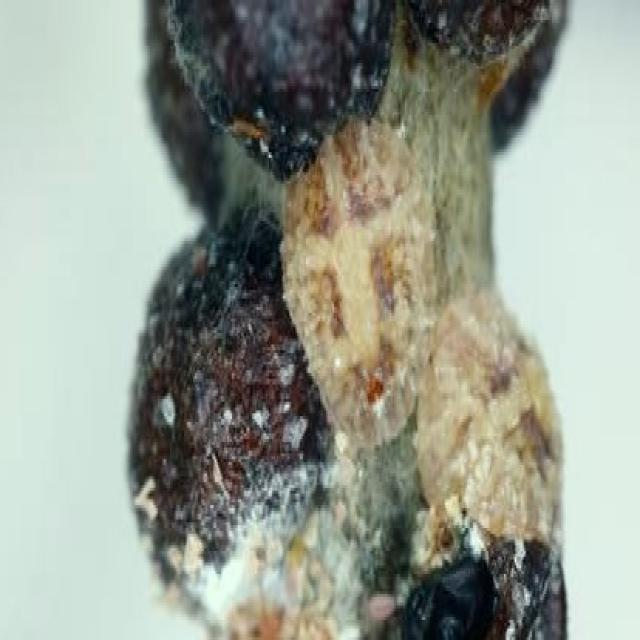Black Scale: (128, 212, 340, 634), (402, 296, 564, 637), (283, 114, 437, 445), (164, 0, 394, 178)
